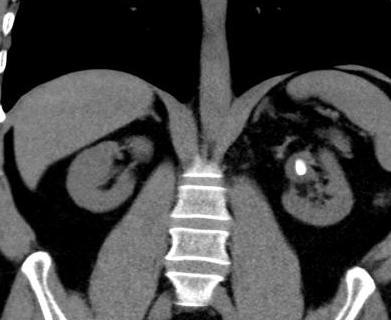Tas_Var: (294, 157, 309, 179)
